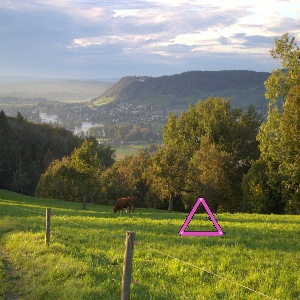triangle: (175, 195, 227, 239)
